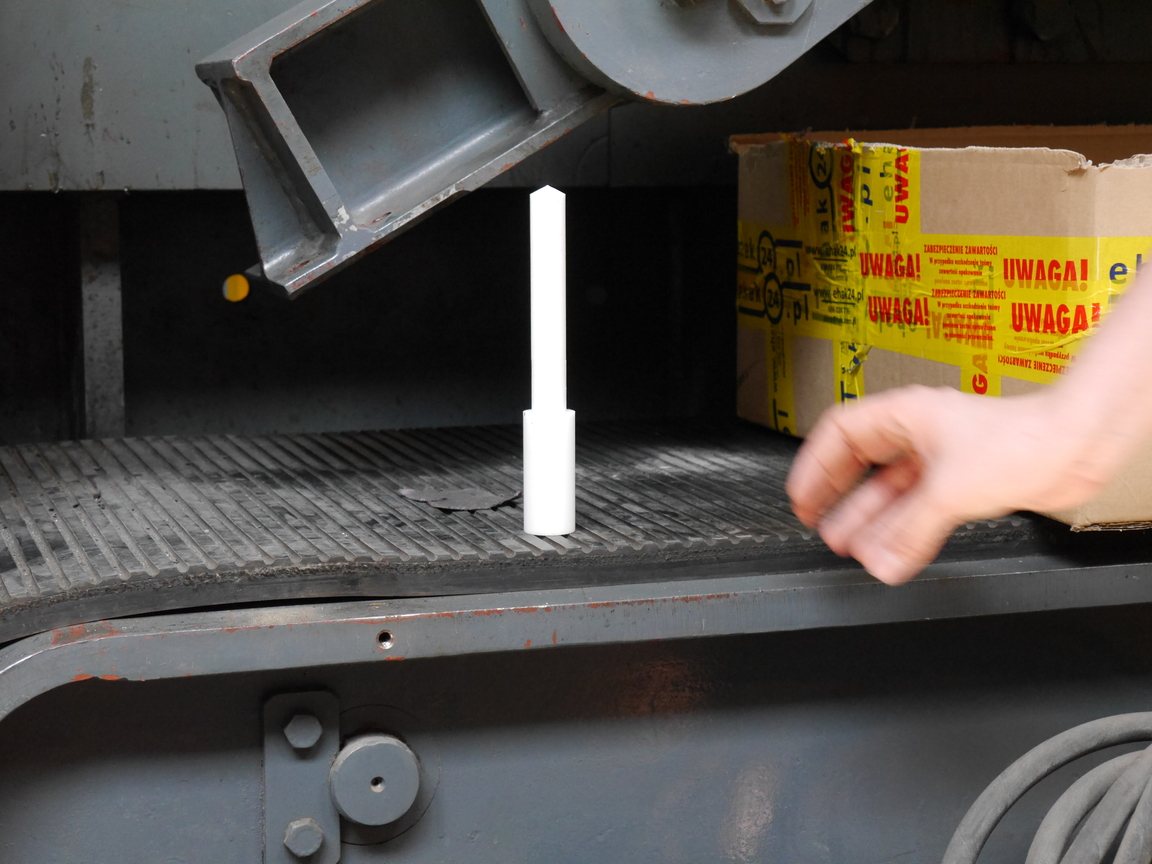cargo_g: (522, 184, 580, 536)
